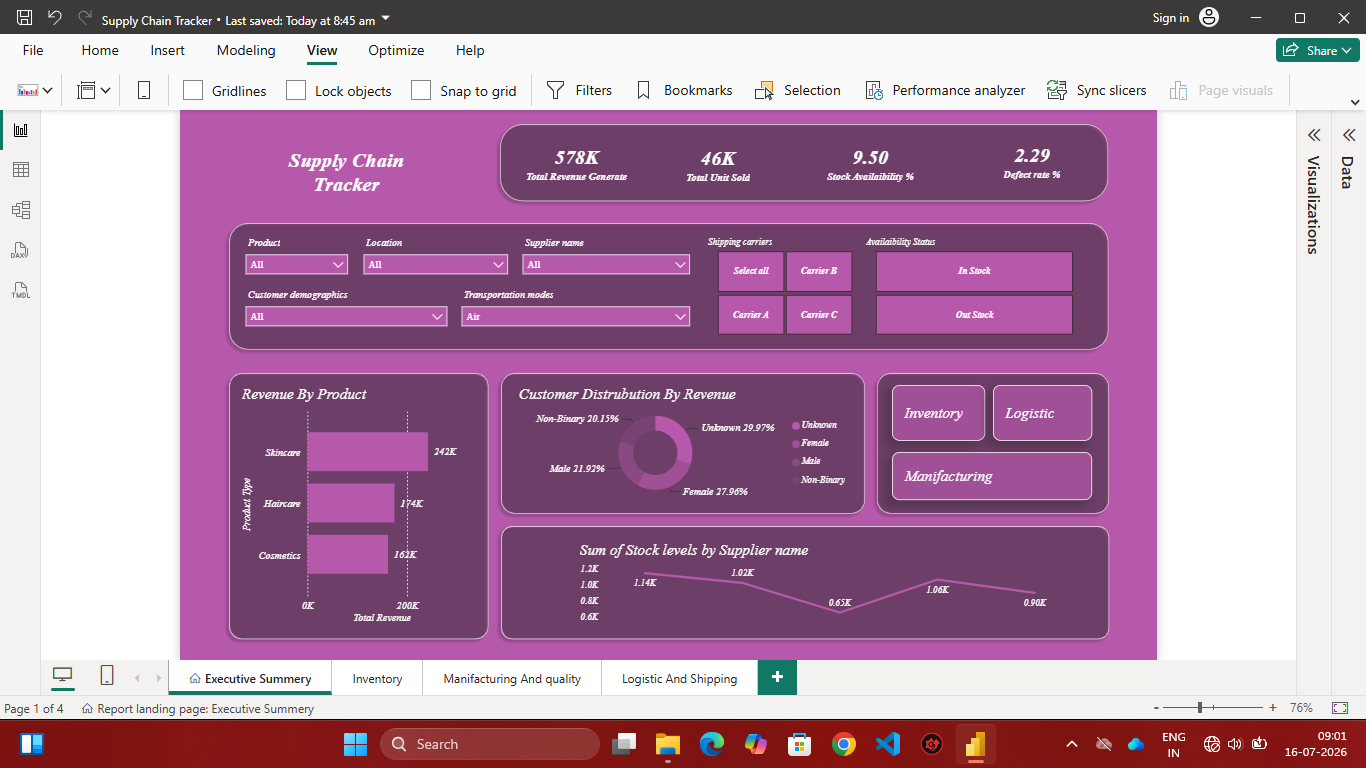

The page's visual inventory and layout, read from the dashboard file:
{"tool":"powerbi","page":{"name":"Executive Summery","canvas":[1280,720],"ordinal":0},"visuals":[{"type":"textbox","box":[100.5,45.4,234,82.6],"z":0},{"type":"shape","box":[411.5,11,812,117],"z":1000},{"type":"cardVisual","fields":{"Data":["Manifacturing.Defect rate %"]},"box":[1004.7,28.9,220.2,79.8],"z":2000},{"type":"cardVisual","fields":{"Data":["Product/Sales.Stock Availability"]},"box":[783.1,13.8,242.2,114.2],"z":3000},{"type":"cardVisual","fields":{"Data":["Product/Sales.Total Unit Sold"]},"box":[618,31.7,173.4,82.6],"z":4000},{"type":"cardVisual","fields":{"Data":["Product/Sales.Total Revenue Generate"]},"box":[419.8,31.7,198.2,79.8],"z":5000},{"type":"shape","box":[56.4,140.4,1167.1,181.7],"z":6000},{"type":"slicer","fields":{"Values":["Product/Sales.Product type"]},"box":[75.7,161,154.2,67.4],"z":7000},{"type":"slicer","fields":{"Values":["Ordering.Location"]},"box":[229.8,161,209.2,78.5],"z":8000},{"type":"slicer","fields":{"Values":["Ordering.Supplier name"]},"box":[439.1,161,239.5,67.4],"z":9000},{"type":"slicer","fields":{"Values":["Product/Sales.Customer demographics"]},"box":[75.7,228.5,283.5,72.9],"z":10000},{"type":"slicer","fields":{"Values":["Shipping/Logistic.Transportation modes"]},"box":[359.2,228.5,319.3,72.9],"z":11000},{"type":"slicer","fields":{"Values":["Shipping/Logistic.Shipping carriers"]},"box":[678.5,161,225.7,140.4],"z":12000},{"type":"slicer","fields":{"Values":["Product/Sales.Availaibility Status"]},"box":[885,161,308.3,140.4],"z":13000},{"type":"shape","box":[56.2,337,355.7,364.3],"z":14000},{"type":"barChart","title":"Revenue By Product","fields":{"Y":["Product/Sales.Total Revenue Generate"],"Category":["Product/Sales.Product type"]},"box":[76.3,360,306.7,316.8],"z":15000},{"type":"shape","box":[411.8,337,492.5,200.2],"z":16000},{"type":"donutChart","title":"Customer Distrubution By Revenue ","fields":{"Category":["Product/Sales.Customer demographics"],"Y":["Sum(Product/Sales.Revenue generated)"]},"box":[439.2,360,446.4,155.5],"z":17000},{"type":"shape","box":[411.8,537.1,812.2,164.2],"z":18000},{"type":"lineChart","fields":{"Y":["Sum(Product/Sales.Stock levels)"],"Category":["Ordering.Supplier name"]},"box":[518.4,564.5,656.6,112.3],"z":19000},{"type":"shape","box":[904.3,337,319.7,200.2],"z":20000},{"type":"actionButton","box":[931.7,360,122.4,73.4],"z":21000},{"type":"actionButton","box":[1064.2,360,129.6,73.4],"z":22000},{"type":"actionButton","box":[931.7,447.8,262.1,63.4],"z":23000}]}

Visuals, with their boxes on the page's 1280x720 design canvas (x1, y1, x2, y2). These are canvas units, not pixel positions in the 1366x768 screenshot, which may show the page scaled, cropped or inside an application window:
textbox: (100,45,334,128)
shape: (412,11,1224,128)
cardVisual - Manifacturing.Defect rate %: (1005,29,1225,109)
cardVisual - Product/Sales.Stock Availability: (783,14,1025,128)
cardVisual - Product/Sales.Total Unit Sold: (618,32,791,114)
cardVisual - Product/Sales.Total Revenue Generate: (420,32,618,112)
shape: (56,140,1224,322)
slicer - Product/Sales.Product type: (76,161,230,228)
slicer - Ordering.Location: (230,161,439,240)
slicer - Ordering.Supplier name: (439,161,679,228)
slicer - Product/Sales.Customer demographics: (76,228,359,301)
slicer - Shipping/Logistic.Transportation modes: (359,228,678,301)
slicer - Shipping/Logistic.Shipping carriers: (678,161,904,301)
slicer - Product/Sales.Availaibility Status: (885,161,1193,301)
shape: (56,337,412,701)
"Revenue By Product" barChart: (76,360,383,677)
shape: (412,337,904,537)
"Customer Distrubution By Revenue " donutChart: (439,360,886,516)
shape: (412,537,1224,701)
lineChart - Sum(Product/Sales.Stock levels) x Ordering.Supplier name: (518,564,1175,677)
shape: (904,337,1224,537)
actionButton: (932,360,1054,433)
actionButton: (1064,360,1194,433)
actionButton: (932,448,1194,511)
